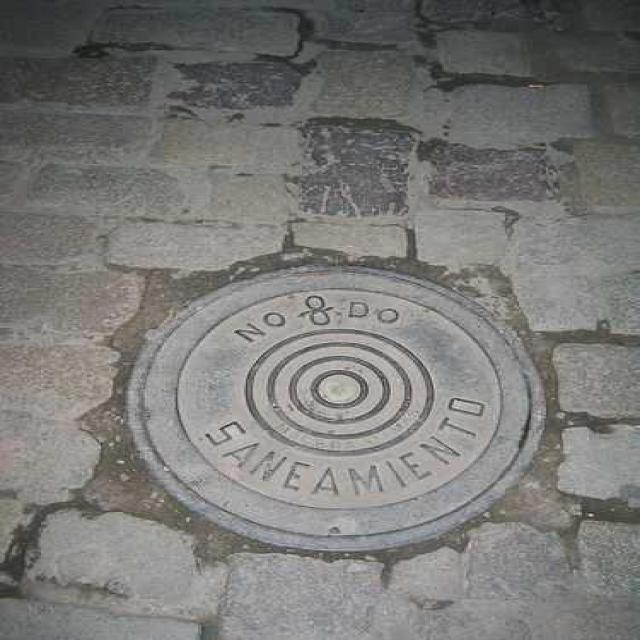manhole: (126, 264, 544, 558)
